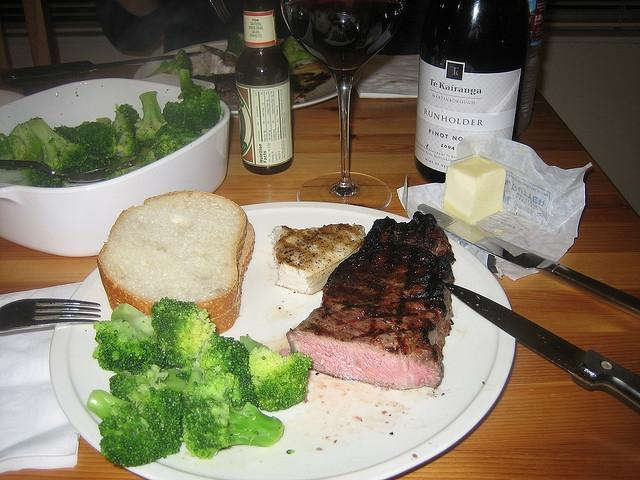broccoli: (86, 371, 185, 468), (183, 397, 284, 458), (239, 333, 313, 412), (92, 303, 156, 374), (182, 337, 250, 393), (26, 117, 89, 172), (178, 68, 222, 130), (186, 372, 258, 409), (150, 122, 205, 160), (133, 90, 167, 148), (75, 117, 116, 159), (7, 118, 43, 162), (145, 50, 193, 78), (112, 103, 140, 136), (53, 121, 89, 142), (115, 131, 142, 157), (224, 32, 245, 56)
